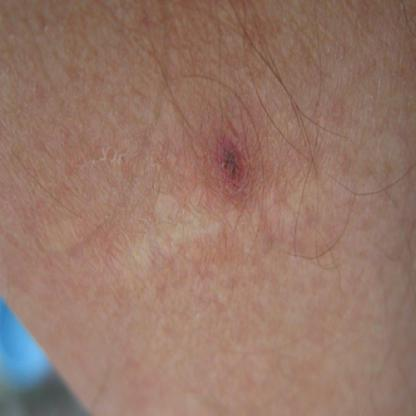Fire ant: (225, 169, 295, 219)
